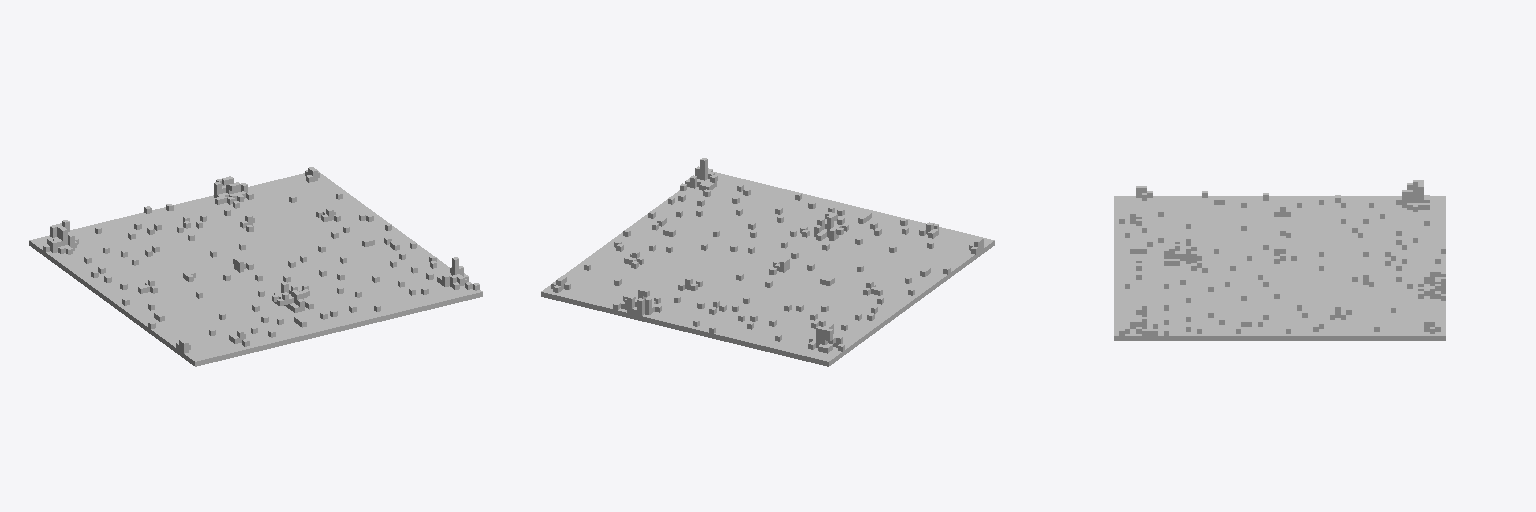
File: Chão com caminho.obj
3 renders of one model, left to right at view 1: azimuth 30°, elevation 25°; view 2: azimuth 150°, elevation 25°; view 3: azimuth 270°, elevation 25°, orthographic.
Parts seen in each view (by area): view 1: object 1; view 2: object 1; view 3: object 1.
Part boxes in pixels (x1,y1,x2,y2): object 1: (29,167,482,366); object 1: (541,158,994,366); object 1: (1114,180,1445,340).
Bounding box in the file's own units: 6 × 0.6 × 6.